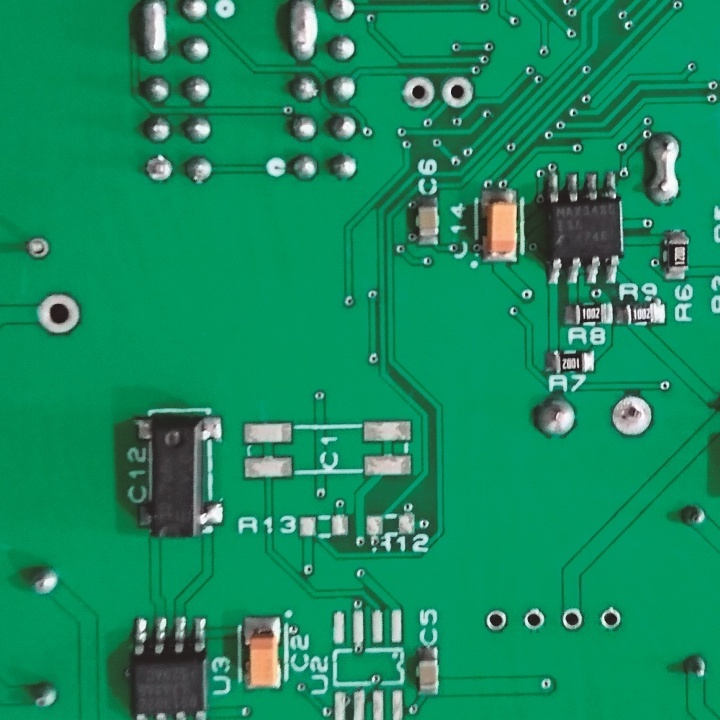F: (607, 392, 654, 442), (35, 292, 83, 338), (402, 72, 439, 114), (439, 74, 476, 112), (596, 603, 626, 636), (142, 154, 174, 184), (24, 235, 53, 263), (557, 607, 586, 634), (484, 608, 510, 635), (522, 607, 547, 634)
P: (644, 129, 683, 210), (284, 1, 321, 69), (135, 1, 170, 66)
